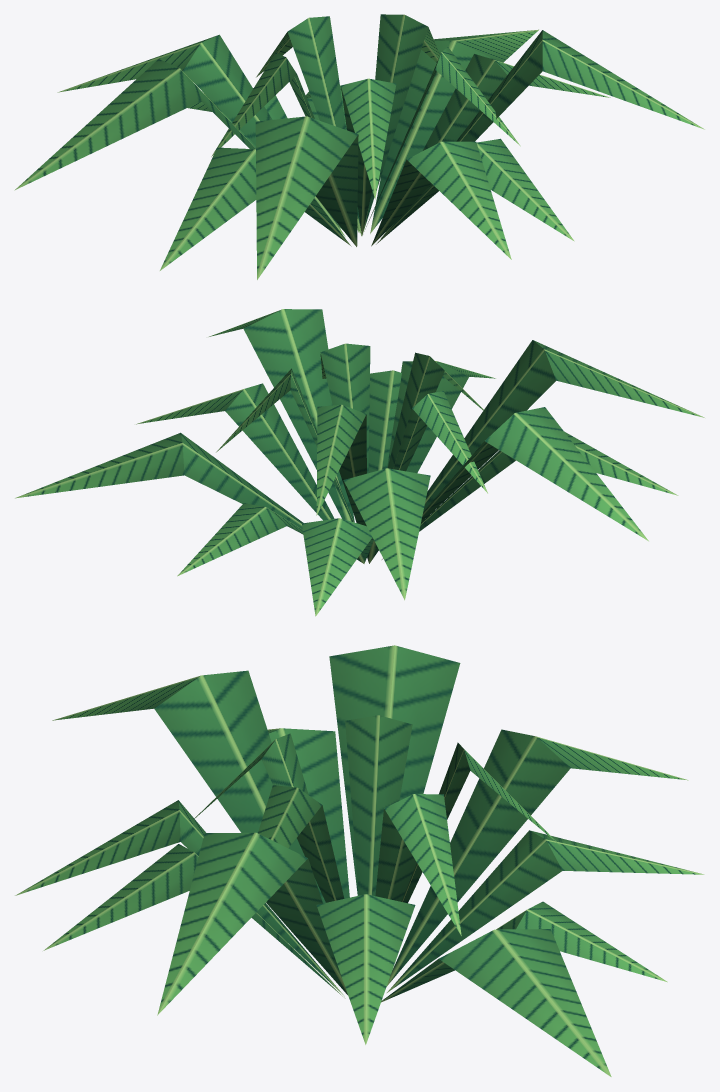
File: cover_fern.glb
3 renders of one model, top to bottom at view 1: azimuth 30°, elevation 25°; view 2: azimuth 150°, elevation 25°; view 3: azimuth 270°, elevation 25°, orthographic. The views are drawn at different scales.
Visible parts, largest first — view 1: cover_fern_leaves; view 2: cover_fern_leaves; view 3: cover_fern_leaves.
Boxes of the visible parts, bbox=[...] form: cover_fern_leaves: bbox=[14, 14, 704, 279]; cover_fern_leaves: bbox=[15, 309, 704, 616]; cover_fern_leaves: bbox=[15, 645, 704, 1076].
Size of the model in its own units: 1.62 by 0.5261 by 1.32.
1 material, 1 textured.
